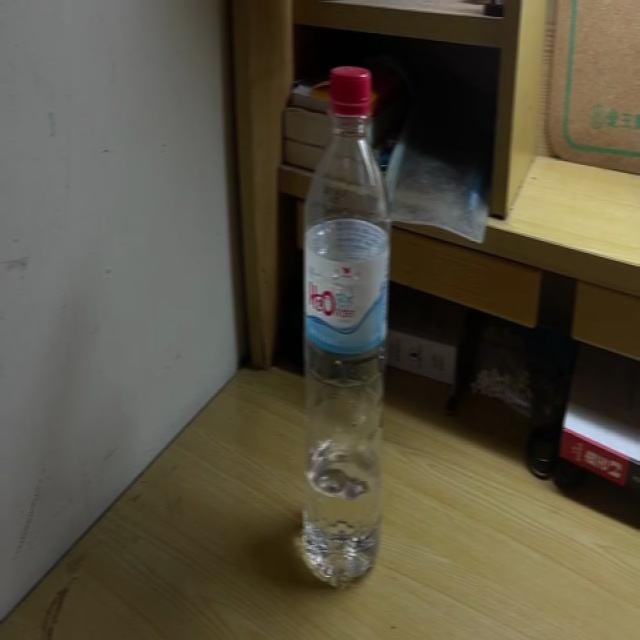Water: (302, 62, 387, 588)
